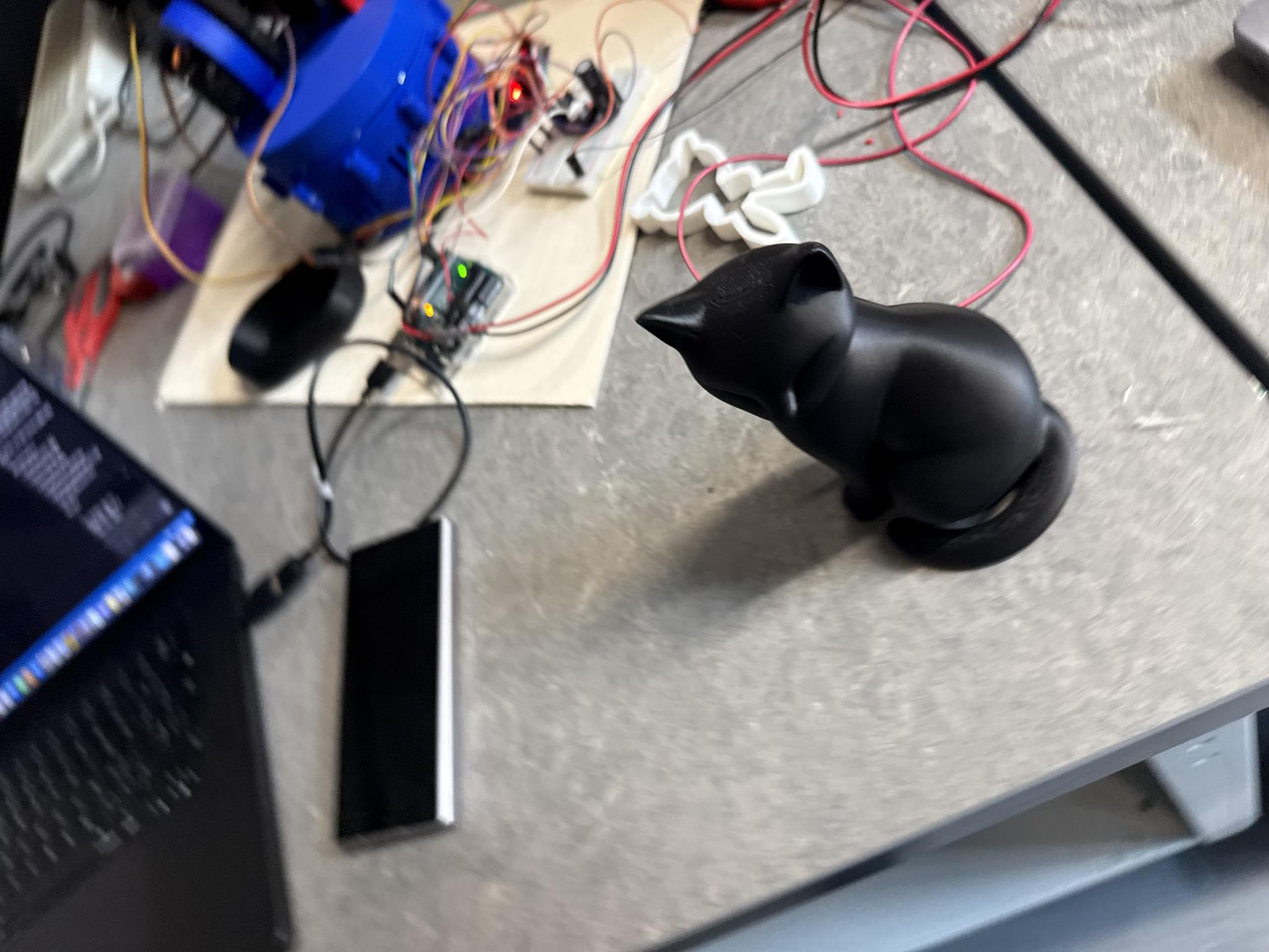cat: (623, 242, 1080, 591)
